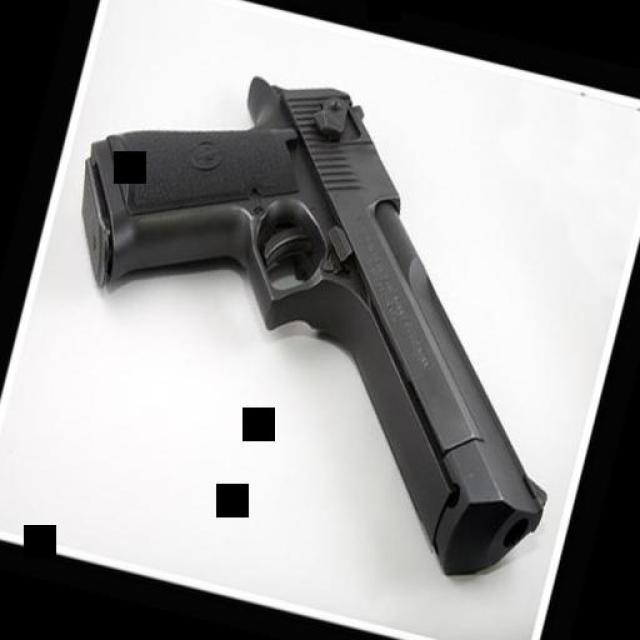gun: (4, 30, 630, 592)
